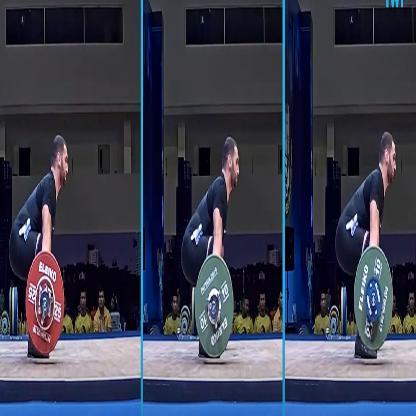Barbell: (371, 292, 379, 312), (212, 299, 218, 318), (43, 297, 50, 313)
